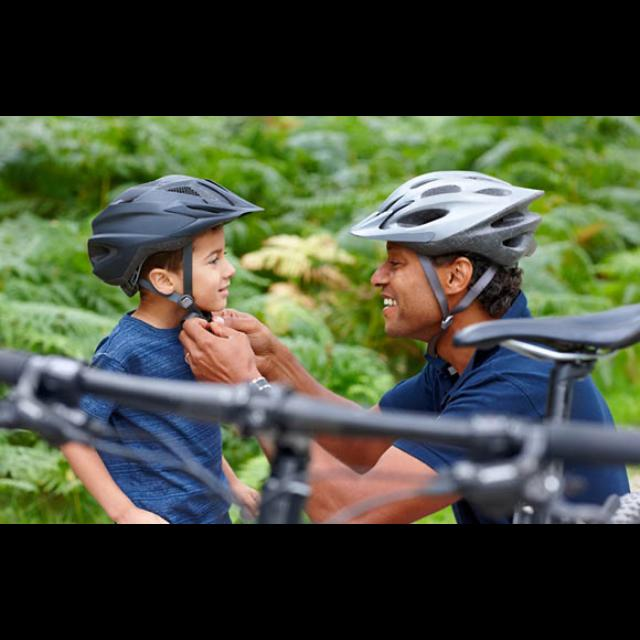With Helmet: (340, 159, 550, 339), (74, 170, 266, 314)
